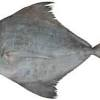Ikan Bawal: (1, 1, 100, 93)
